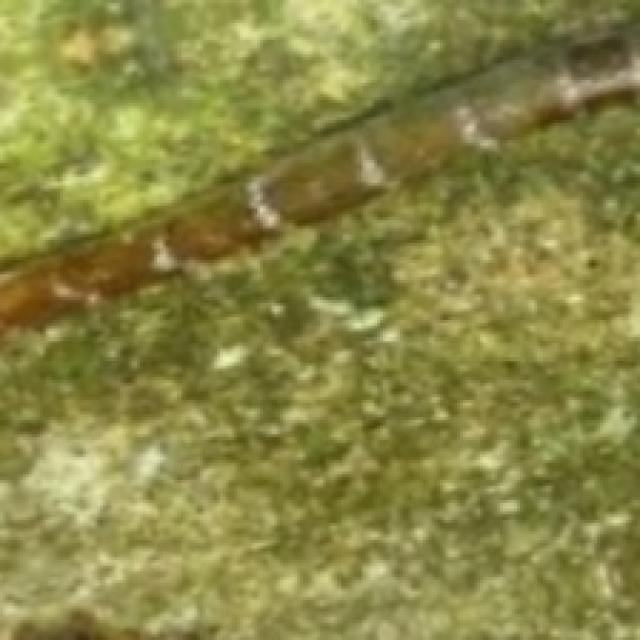reddish rat snake: (1, 29, 640, 332)
